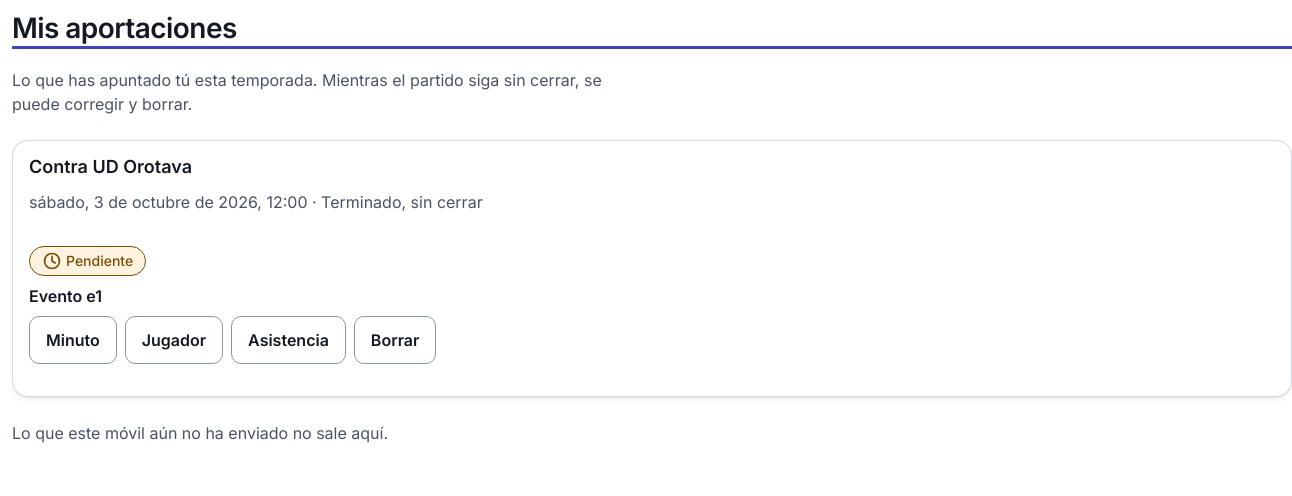
Test: MisAportacionesPage › con la lista volviéndose a pedir y sin borrado en marcha, el botón dice «Sí, borrar»
Click the button with aria-label "Borrar: Evento e1". click: (395, 340)
box: 354,316 -> 436,364
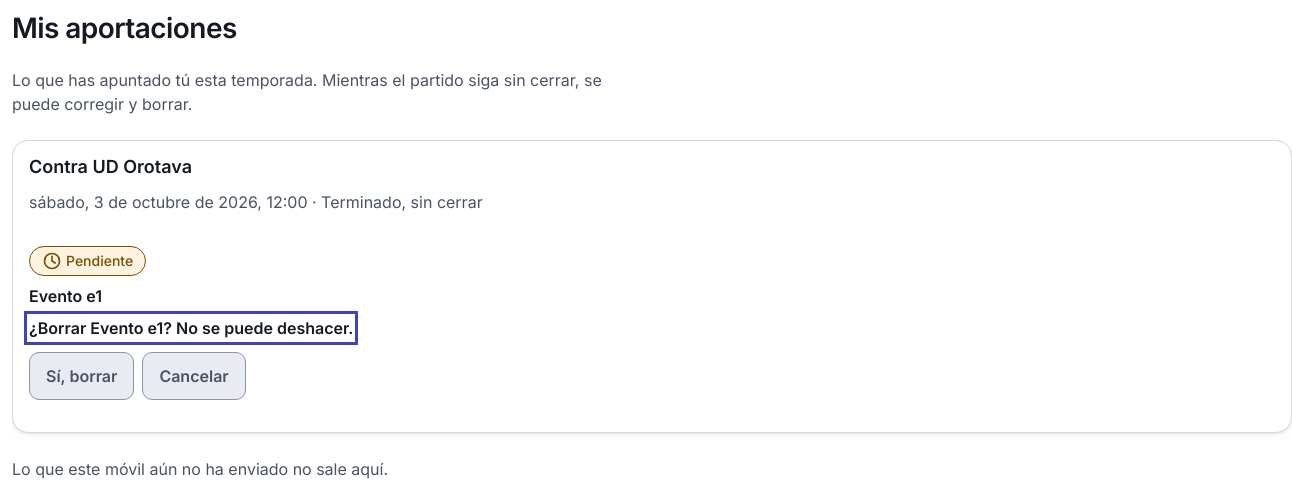
Result: the button "Sí, borrar" is disabled at 29,352 -> 134,400
